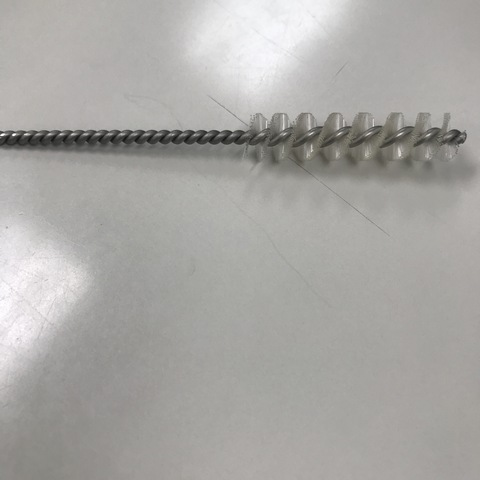Twist Brush-B: (1, 105, 459, 165)
